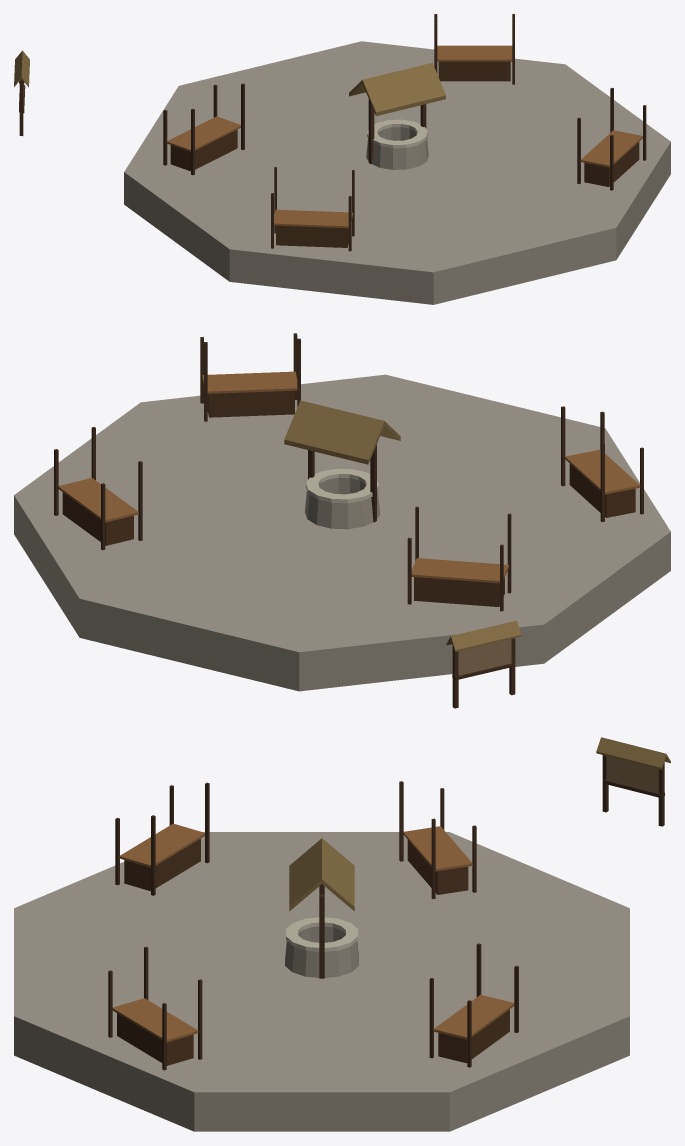
The model's file is SM_WillowPond_Square.fbx.
3 views of the same model, one above another, from view 1: azimuth 30°, elevation 25°; view 2: azimuth 150°, elevation 25°; view 3: azimuth 270°, elevation 25° (orthographic). The views are drawn at different scales.
Visible parts, largest first — view 1: SM_WillowPond_Square; view 2: SM_WillowPond_Square; view 3: SM_WillowPond_Square.
Boxes of the visible parts, x1,y1,x2,y2 form: SM_WillowPond_Square: [14, 14, 670, 304]; SM_WillowPond_Square: [14, 333, 670, 708]; SM_WillowPond_Square: [14, 737, 670, 1131].
Size of the model in its own units: 18.75 by 4.35 by 18.13.
